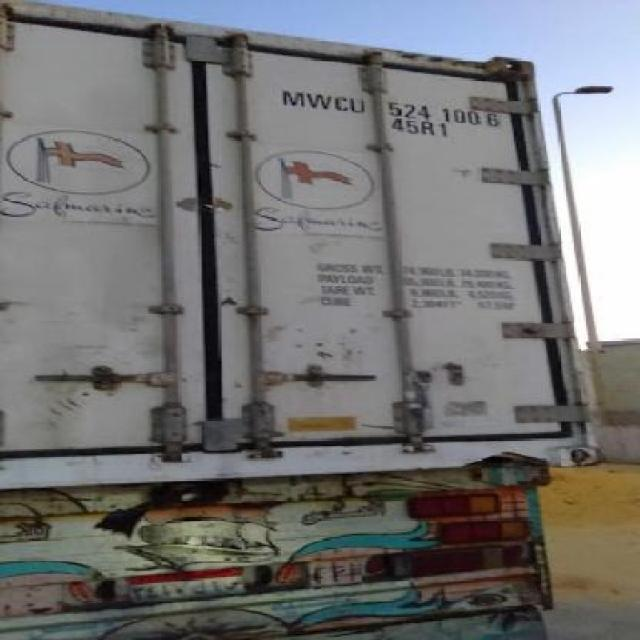ISO: (395, 118, 452, 144)
container_number: (272, 95, 495, 126)
